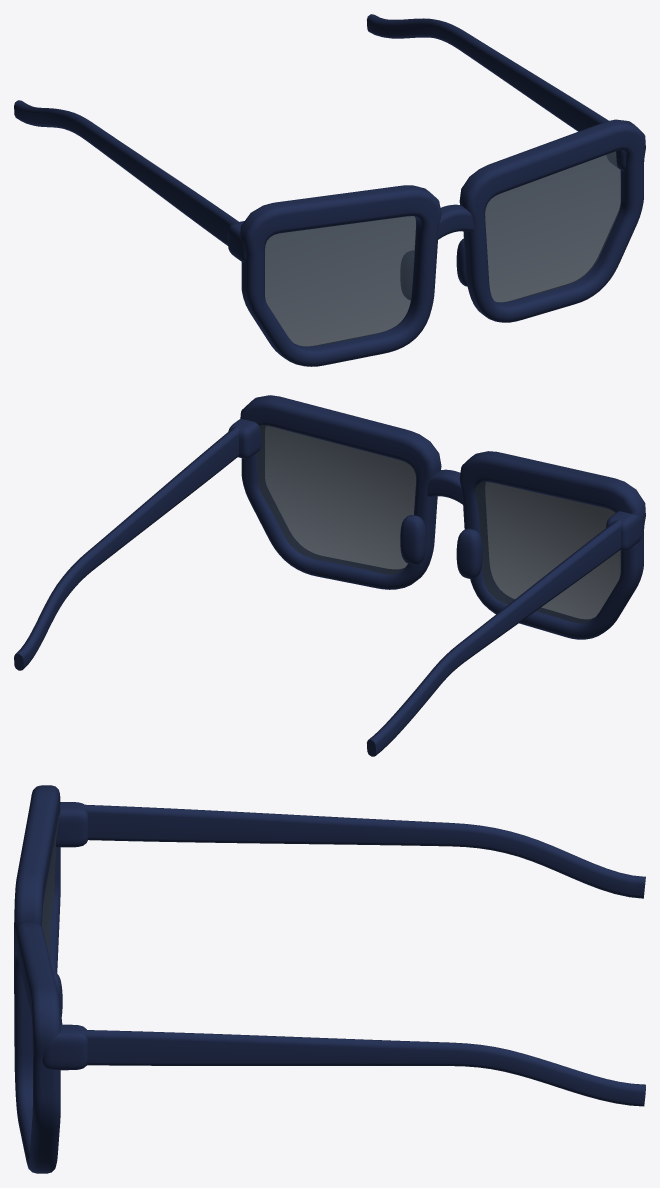
File: TO-WAY-03.glb
3 views of the same model, one above another, from view 1: azimuth 30°, elevation 25°; view 2: azimuth 150°, elevation 25°; view 3: azimuth 270°, elevation 25° (orthographic). The views are drawn at different scales.
Parts seen in each view (by area): view 1: frame, lenses; view 2: frame, lenses; view 3: frame, lenses.
Part boxes in pixels (x1,y1,x2,y2): frame: (14, 14, 645, 366); lenses: (265, 151, 620, 346); frame: (14, 395, 645, 756); lenses: (257, 424, 620, 623); frame: (14, 785, 645, 1173); lenses: (42, 815, 59, 956).
Size of the model in its own units: 0.1322 by 0.0526 by 0.1495.
